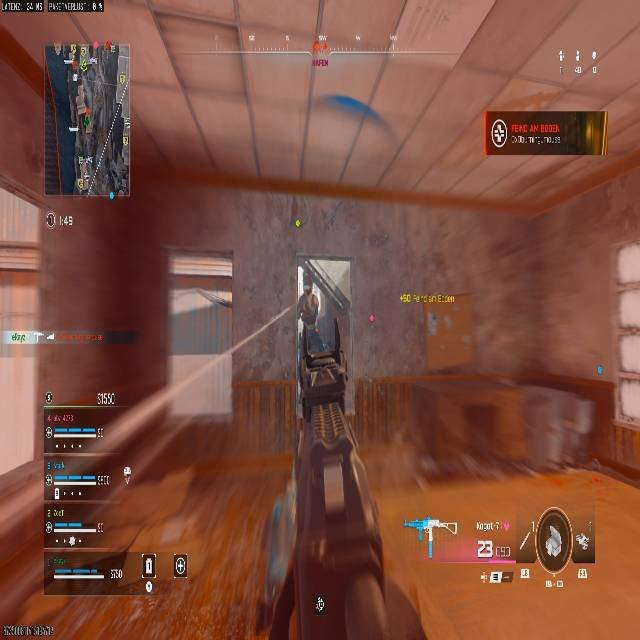head: (302, 276, 313, 293), (303, 284, 312, 294)
player: (295, 271, 351, 455)
